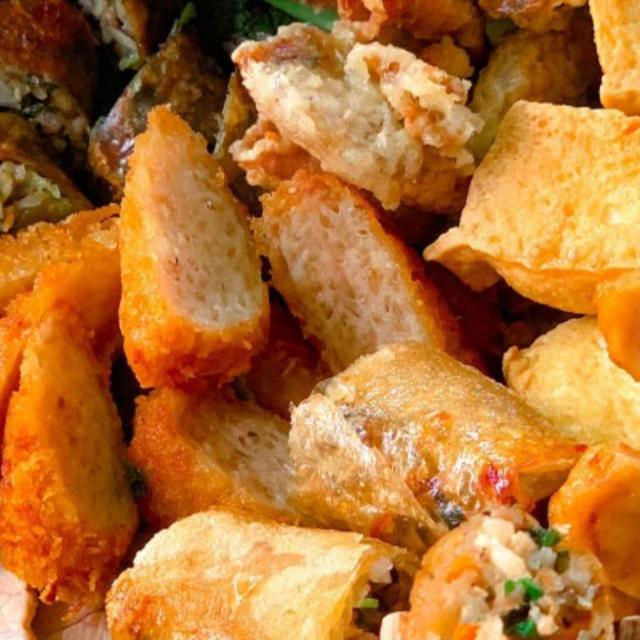bun dau: (0, 0, 640, 640)
cha com: (0, 75, 511, 640), (529, 414, 640, 640)
cha gio: (270, 317, 599, 565), (75, 502, 467, 640), (378, 478, 640, 640)
dau hu: (400, 73, 640, 343), (486, 284, 640, 494)
doi sun: (0, 0, 288, 297)
